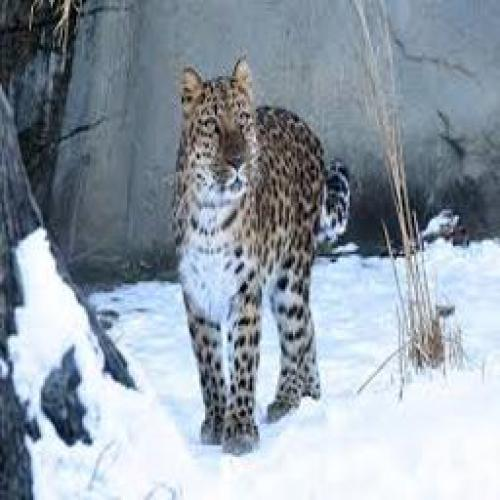amur_leopard-endangered: (170, 58, 348, 448)
